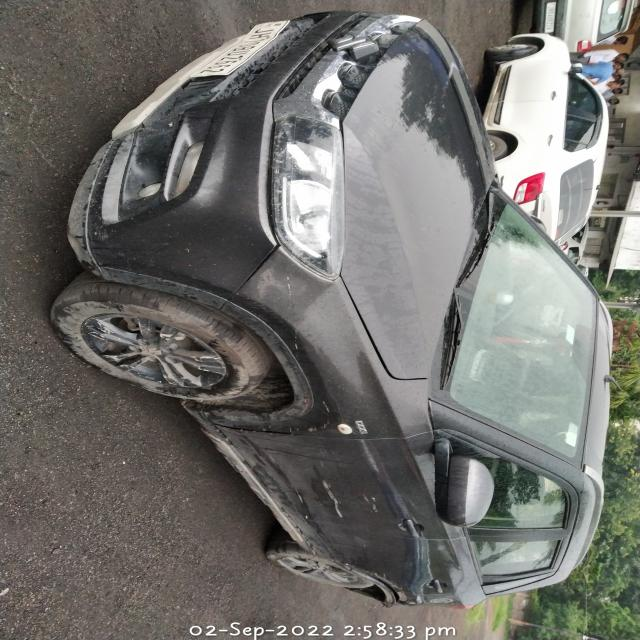damage: (293, 470, 393, 523), (274, 274, 309, 353), (352, 442, 386, 475)
